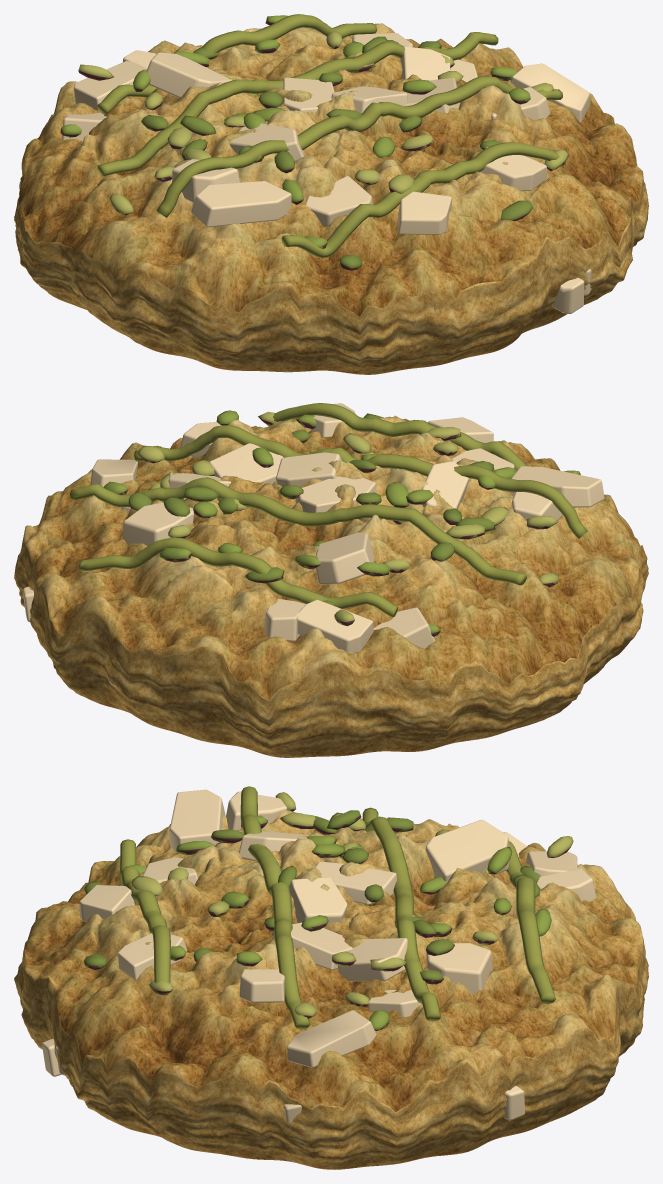
File: tem_pistachio.glb
3 renders of one model, top to bottom at view 1: azimuth 30°, elevation 25°; view 2: azimuth 150°, elevation 25°; view 3: azimuth 270°, elevation 25°, orthographic. The views are drawn at different scales.
Parts seen in each view (by area): view 1: Baked porous crumb, White chocolate, Pistachio cream, Pistachio kernel 0; view 2: Baked porous crumb, White chocolate, Pistachio cream, Pistachio kernel 0; view 3: Baked porous crumb, White chocolate, Pistachio cream, Pistachio kernel 0.
Boxes of the visible parts, box(x1,y1,x2,y2) form: Baked porous crumb: box(14, 23, 648, 374); White chocolate: box(62, 33, 591, 313); Pistachio cream: box(97, 14, 565, 257); Pistachio kernel 0: box(60, 15, 568, 270); Baked porous crumb: box(14, 415, 648, 757); White chocolate: box(23, 403, 604, 653); Pistachio cream: box(70, 403, 587, 616); Pistachio kernel 0: box(104, 410, 559, 636); Baked porous crumb: box(14, 810, 648, 1169); White chocolate: box(42, 789, 596, 1123); Pistachio cream: box(119, 786, 555, 1029); Pistachio kernel 0: box(84, 792, 573, 1030).
Bounding box in the file's own units: 0.093 × 0.0284 × 0.0903.
6 materials, 6 textured.
